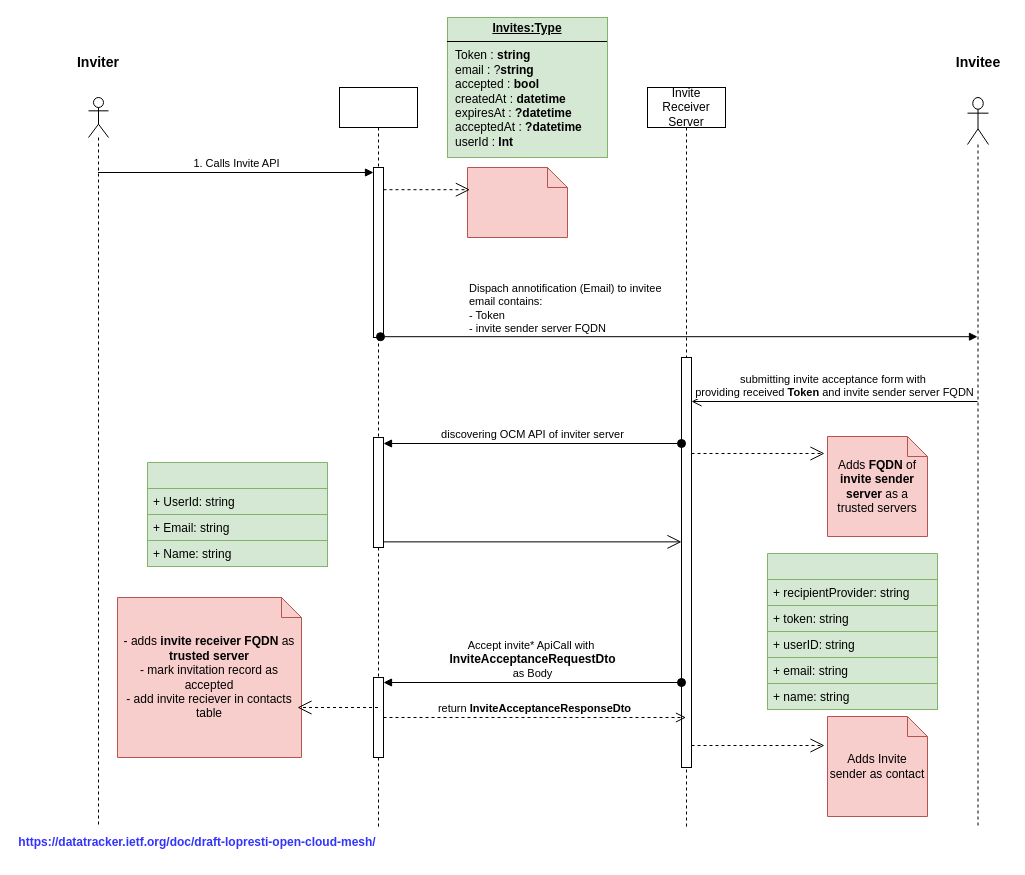
Some shapes in this 1025 by 875 pixel diagram are drawn without their labels. The box of each missing label's shape, as (x1, y1, x2, y2) in pixels:
Creates an invite* recorrd in databse: (466, 166, 568, 238)
Invite Sender Server: (338, 86, 418, 828)
InviteAcceptanceRequestDto: (766, 552, 938, 710)
InviteAcceptanceResponseDto: (146, 462, 328, 566)
